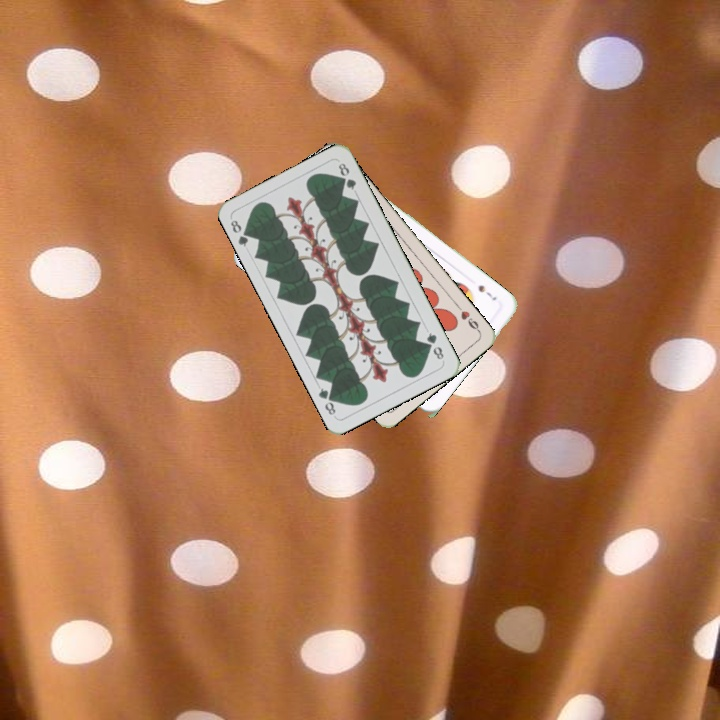G8: (226, 216, 254, 249), (422, 328, 447, 362)
H9: (453, 301, 482, 335)
S7: (474, 281, 499, 303)
